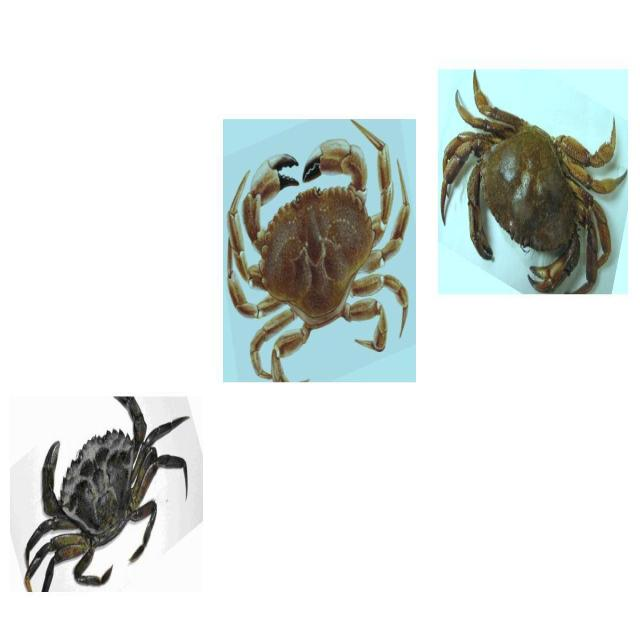egc: (22, 395, 190, 592)
